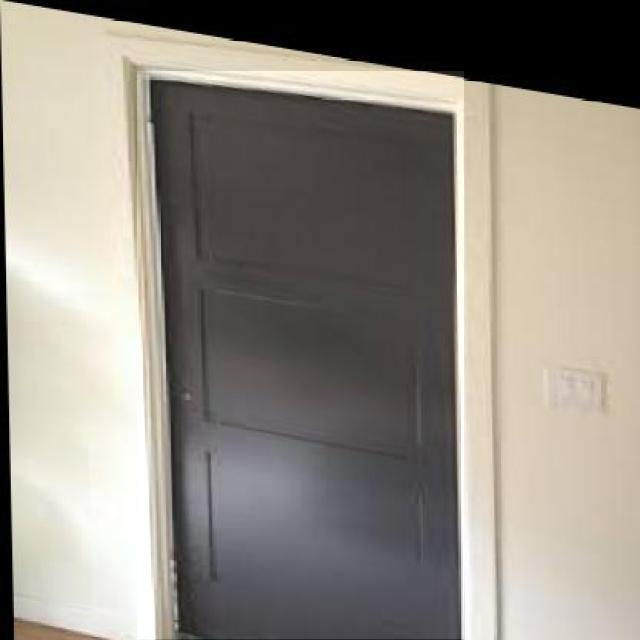door: (138, 65, 464, 640)
